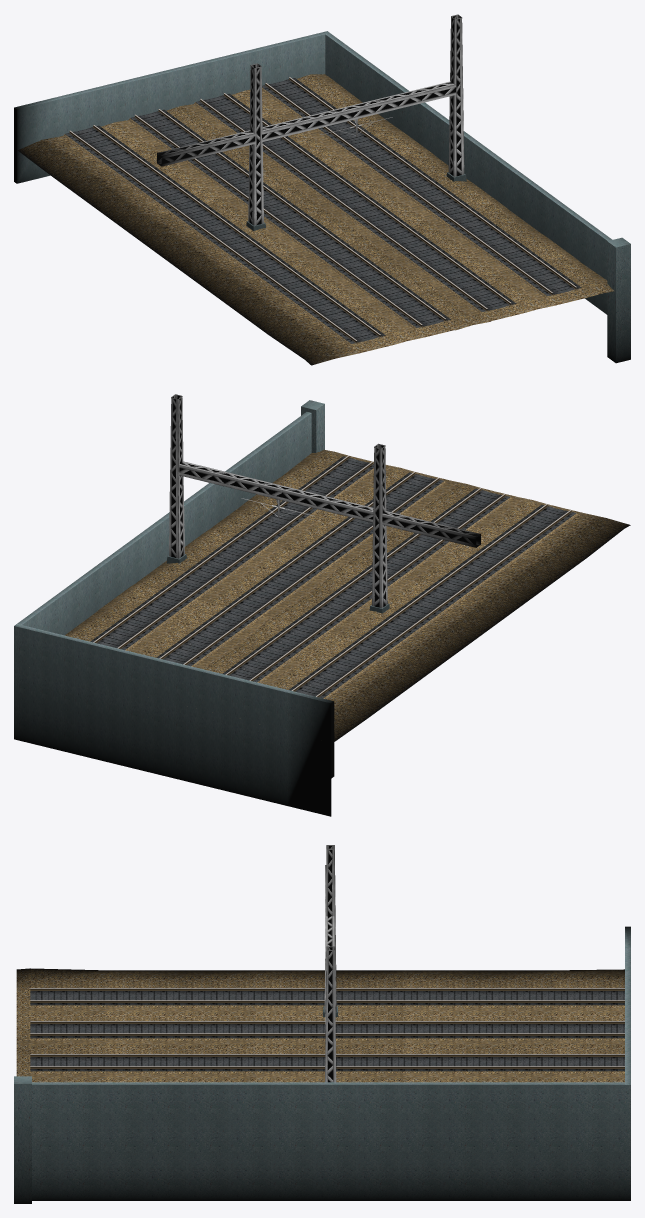
File: HIRAI.glb
3 views of the same model, one above another, from view 1: azimuth 30°, elevation 25°; view 2: azimuth 150°, elevation 25°; view 3: azimuth 270°, elevation 25° (orthographic). The views are drawn at different scales.
Visible parts, largest first — view 1: obj6, V00, body, obj3; view 2: obj6, V00, body, obj3; view 3: obj6, body, obj3, V00.
Boxes of the visible parts, <box> form: obj6: <box>18,31,614,365</box>; V00: <box>14,31,329,183</box>; body: <box>157,14,466,230</box>; obj3: <box>607,237,630,363</box>; obj6: <box>17,412,630,741</box>; V00: <box>14,624,334,816</box>; body: <box>166,394,480,613</box>; obj3: <box>301,400,324,452</box>; obj6: <box>16,968,630,1200</box>; body: <box>323,845,338,1082</box>; obj3: <box>14,1076,31,1203</box>; V00: <box>625,926,630,1084</box>.
Bounding box in the file's own units: 63.58 × 44.96 × 103.
10 materials, 8 textured.
